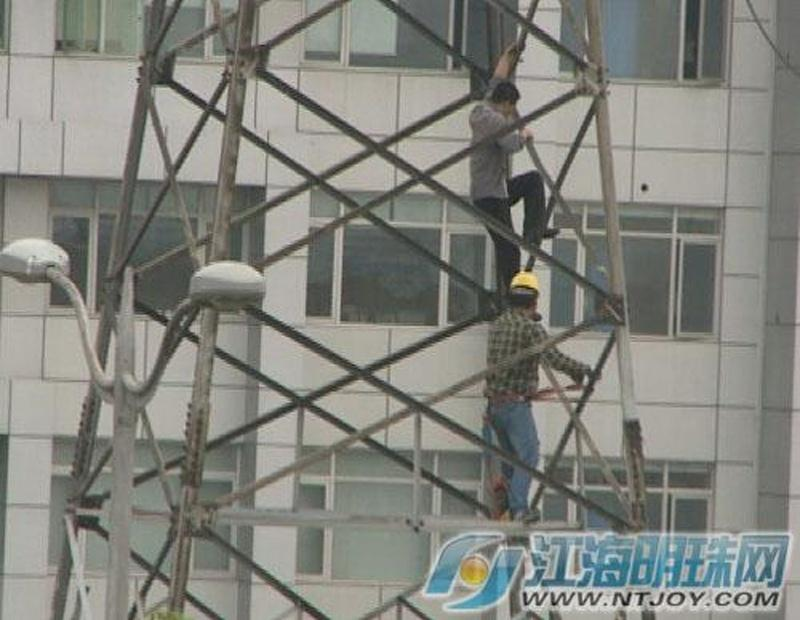power_tower: (71, 12, 659, 541)
